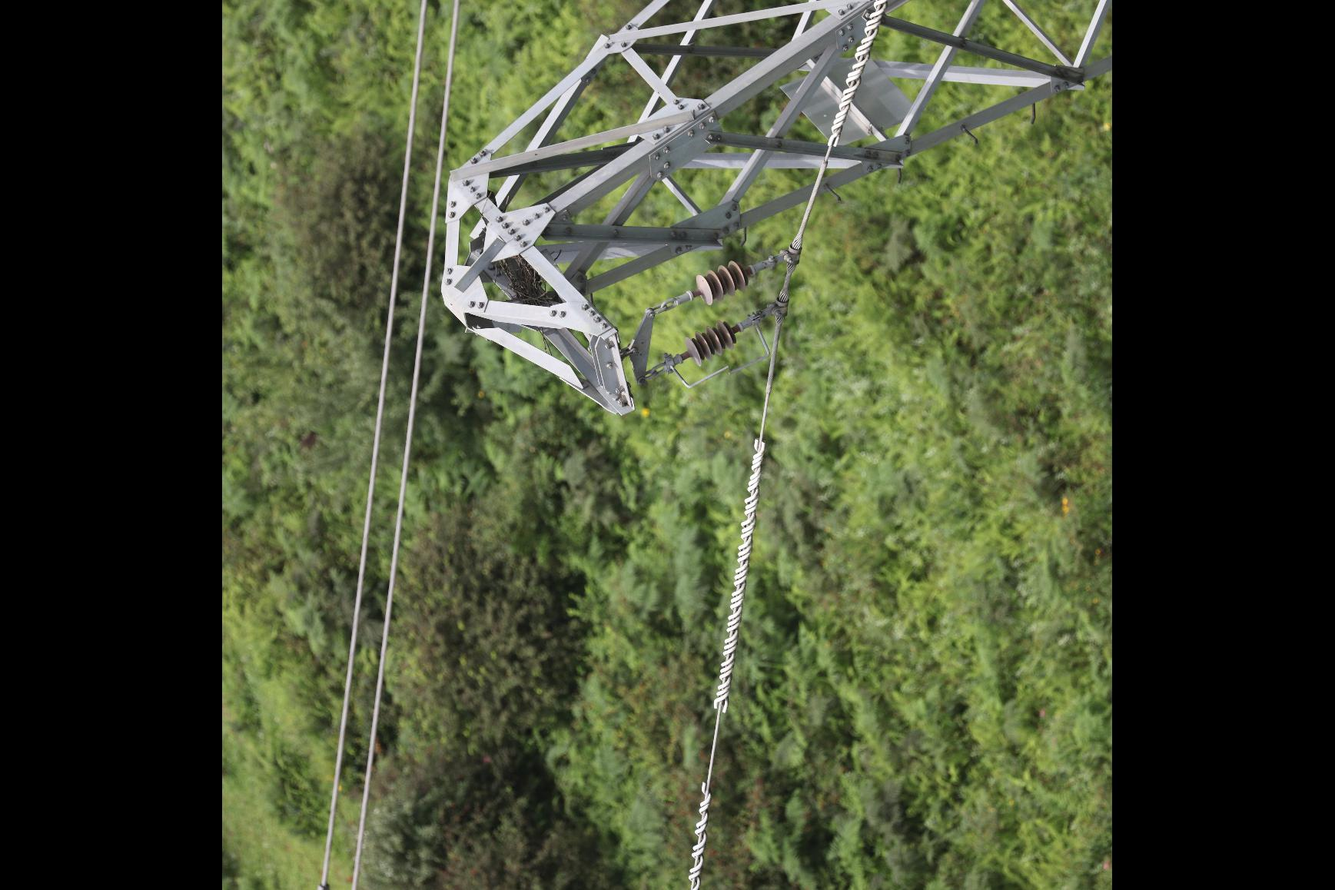nest: (487, 254, 560, 311)
